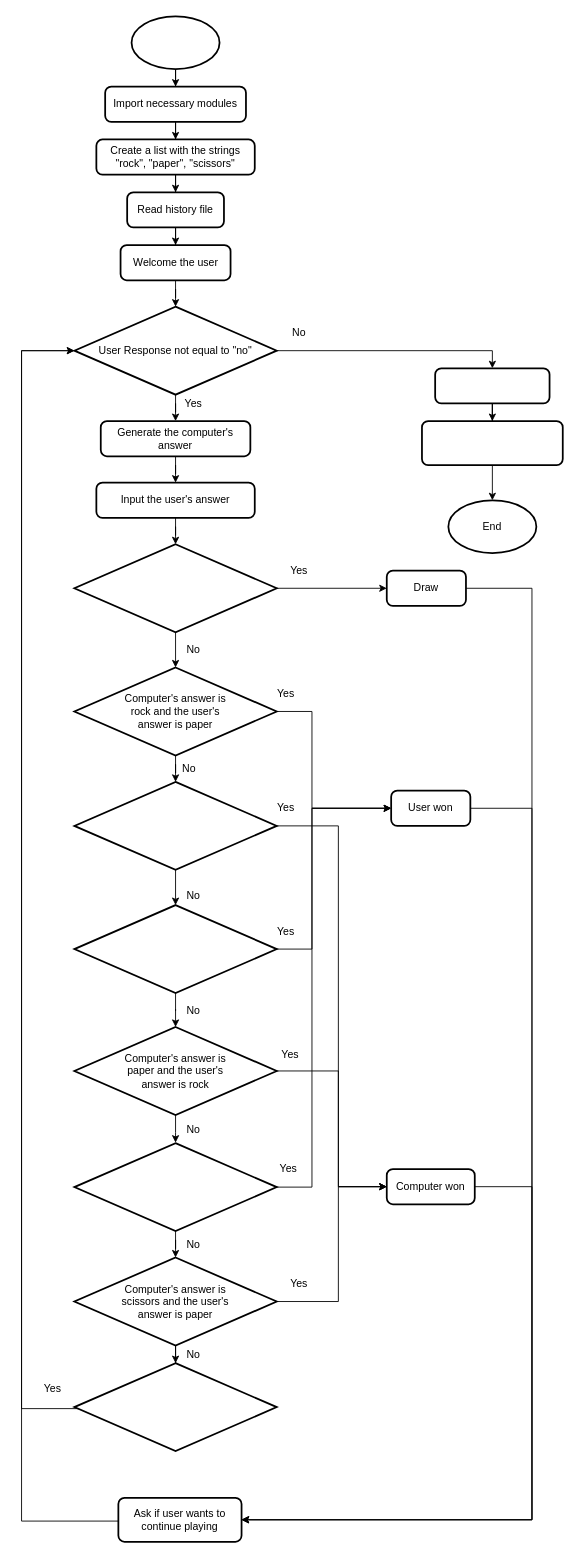
The diagram is 579 pixels wide and 1558 high, and some of its shapes have lost their labels. The shapes that lost their labels are listed below. From the top down, each one's box as (x1, y1, x2, y2) in pixels, then its label:
(130, 15, 220, 70): Start
(434, 367, 550, 404): Store history
(421, 420, 563, 466): Graph summary of history
(73, 543, 277, 633): If the computer's answer is equal to the user's answer, it is a draw
(73, 781, 277, 870): Computer's answer is rock and the user's answer is scissor
(73, 904, 277, 994): Computer's answer is paper and the user's answer is scissor
(73, 1142, 277, 1232): Computer's answer is scissors and the user's answer is rock
(73, 1362, 277, 1452): If the user misspells any word
